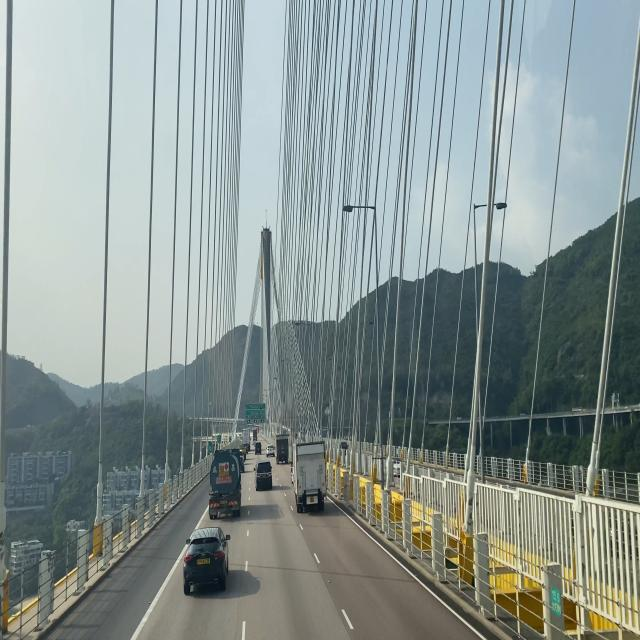Car: (183, 524, 232, 600), (291, 438, 330, 514), (208, 446, 244, 520), (253, 459, 277, 498), (275, 432, 289, 468)
